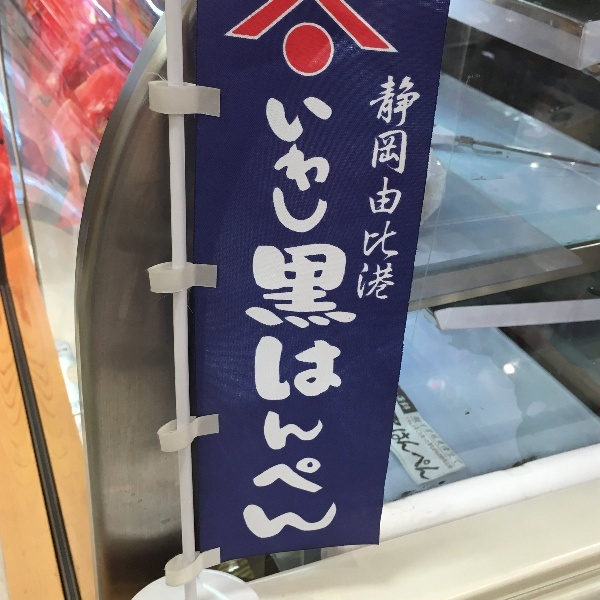text: (257, 95, 272, 545), (273, 95, 288, 545), (289, 95, 304, 545), (305, 95, 320, 545), (321, 95, 336, 545), (337, 95, 352, 545), (353, 95, 362, 545), (248, 95, 256, 545), (385, 74, 400, 302), (401, 74, 416, 302), (371, 74, 384, 302), (417, 74, 425, 302), (417, 426, 432, 486), (417, 416, 432, 470), (433, 416, 448, 470), (433, 415, 448, 466), (419, 415, 432, 466), (449, 415, 460, 466), (407, 426, 416, 486), (433, 426, 441, 486), (409, 416, 416, 470), (449, 416, 454, 470), (401, 394, 411, 412), (394, 394, 400, 412)
